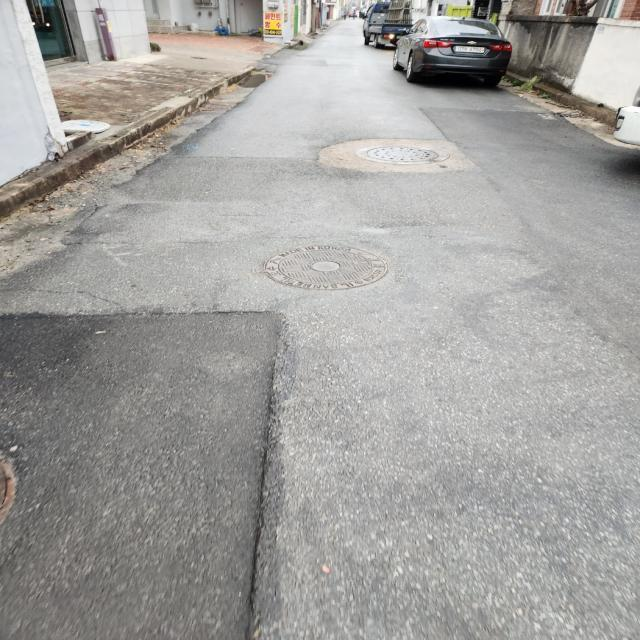manhole: (265, 245, 388, 289)
